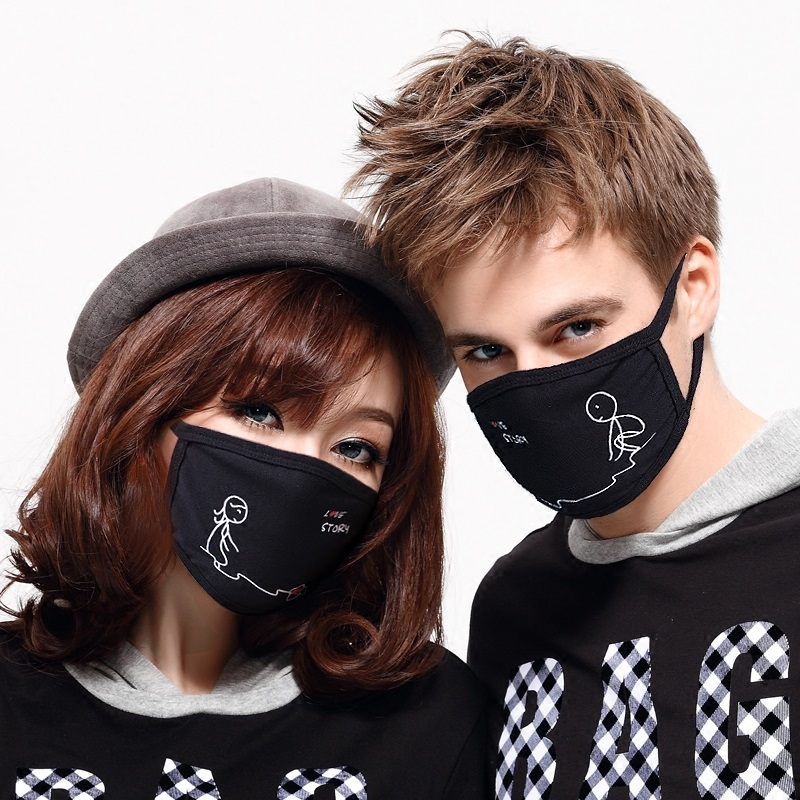face_mask: (437, 206, 671, 506), (159, 318, 394, 609)
